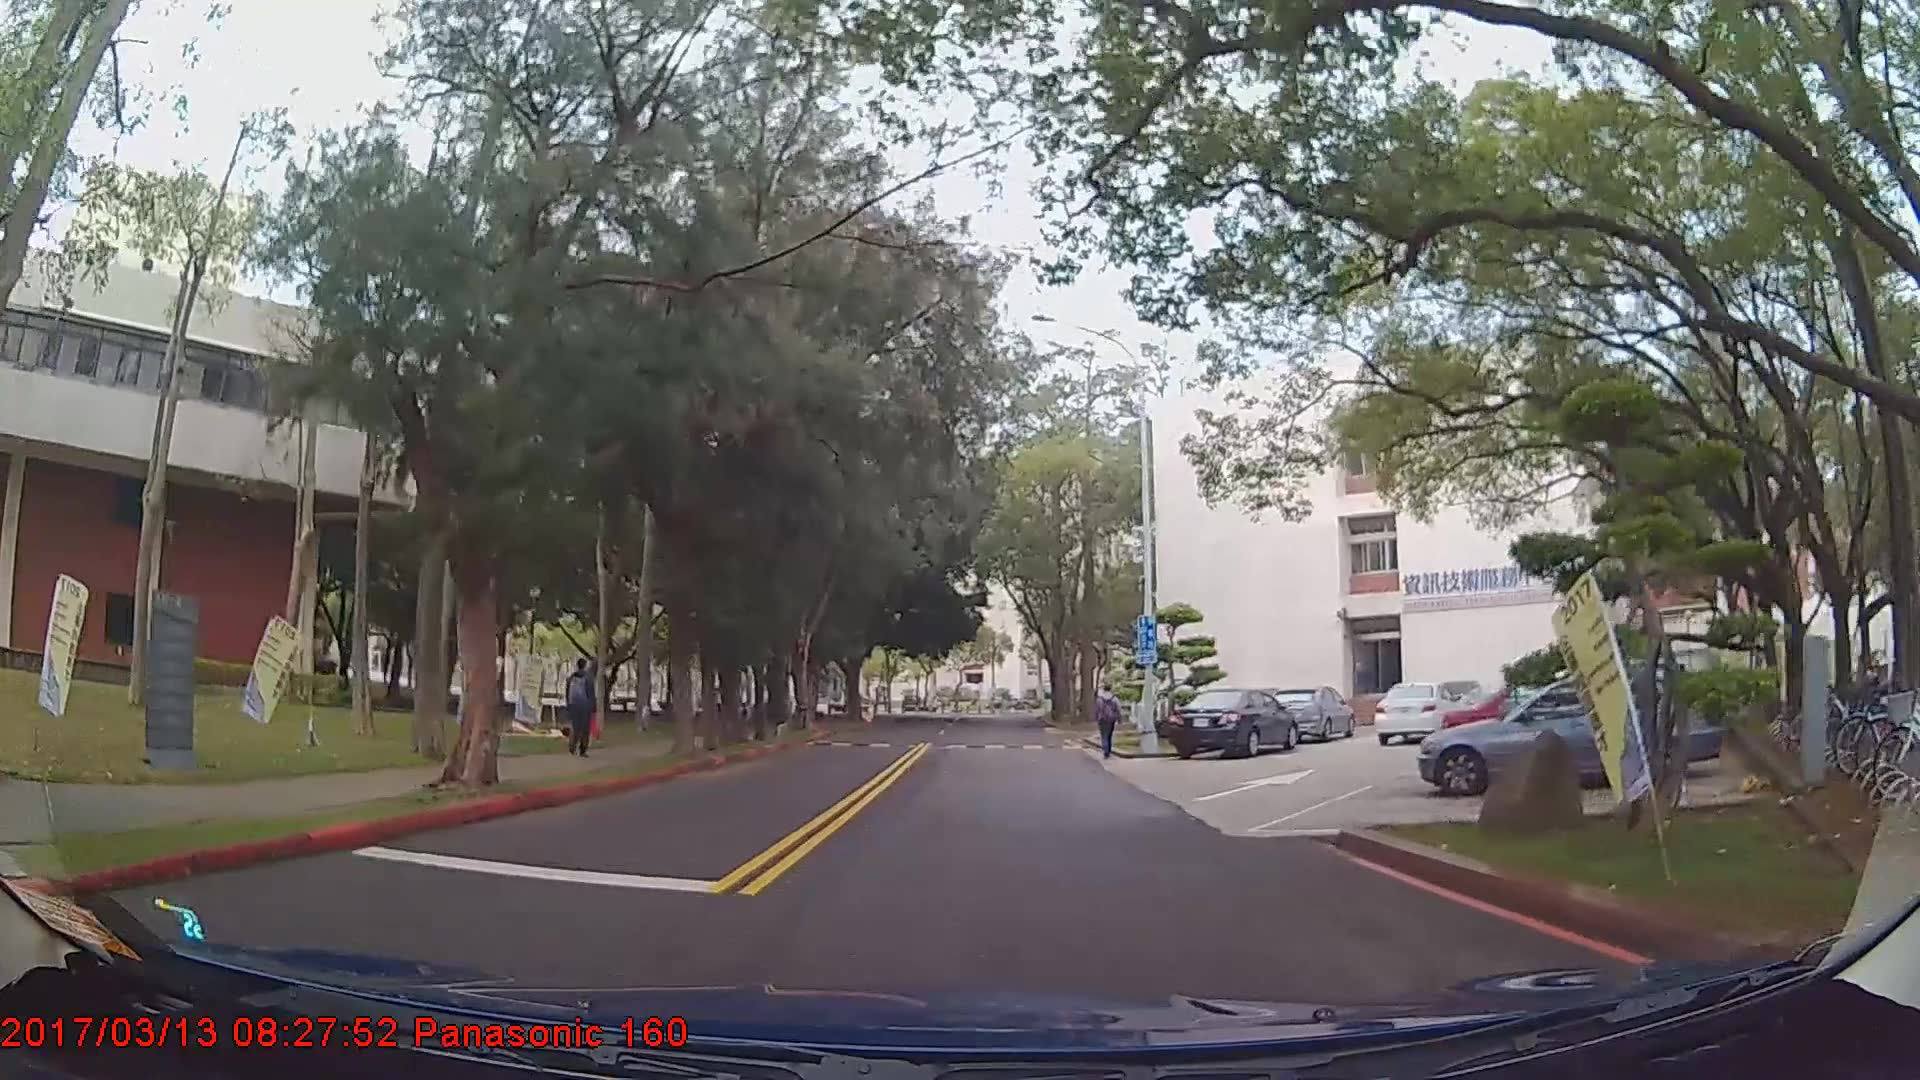pedestrian: (563, 658, 597, 757), (1094, 687, 1122, 763)
vehicle: (1415, 669, 1719, 799), (1166, 683, 1300, 756), (1370, 678, 1457, 744), (1273, 683, 1355, 742)
